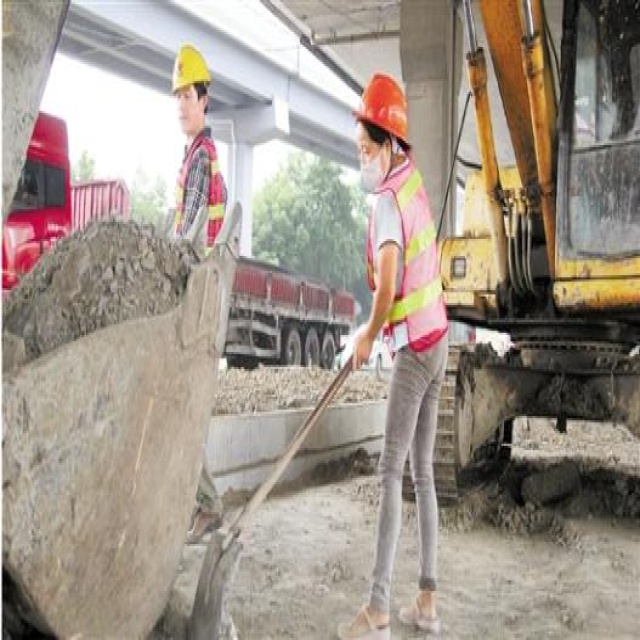Helmet: (344, 63, 422, 208), (161, 35, 219, 148)
Reflective vest: (362, 159, 450, 368), (169, 132, 233, 261)
